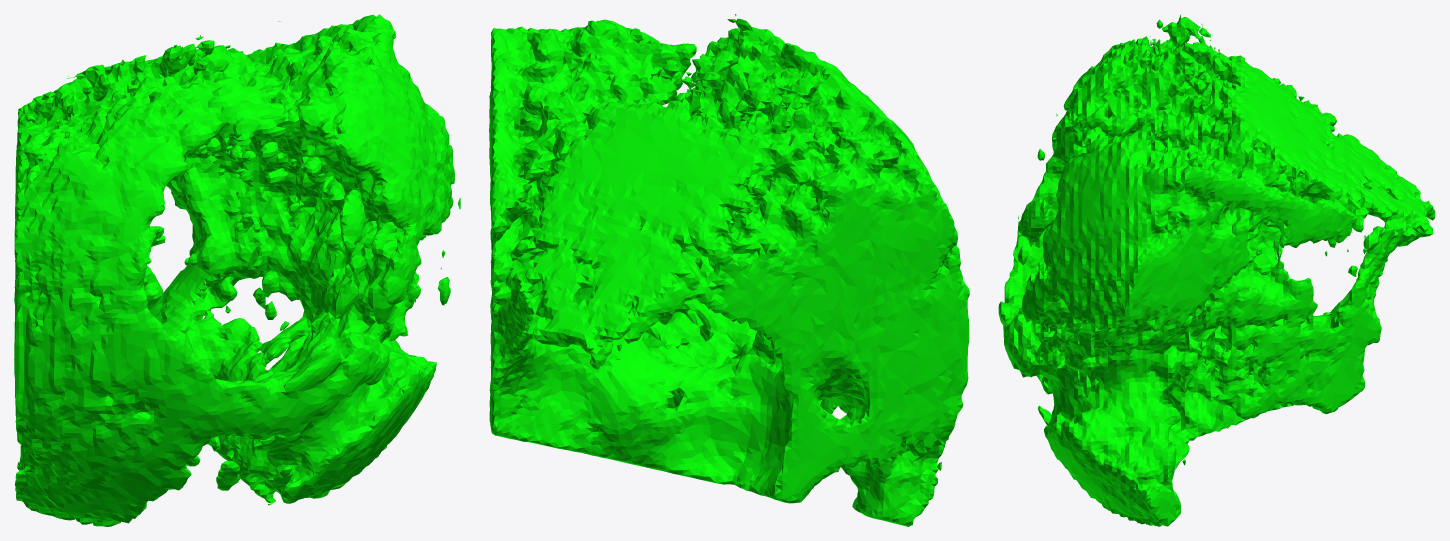
The model's file is B939XXXX-1_base_22.obj.
3 renders of one model, left to right at view 1: azimuth 30°, elevation 25°; view 2: azimuth 150°, elevation 25°; view 3: azimuth 270°, elevation 25°, orthographic. The views are drawn at different scales.
Visible parts, largest first — view 1: 22_base; view 2: 22_base; view 3: 22_base.
Boxes of the visible parts, x1=… form: 22_base: x1=14, y1=14, x2=460, y2=526; 22_base: x1=489, y1=14, x2=969, y2=526; 22_base: x1=998, y1=14, x2=1435, y2=526.
Bounding box in the file's own units: 219 × 219 × 204.
